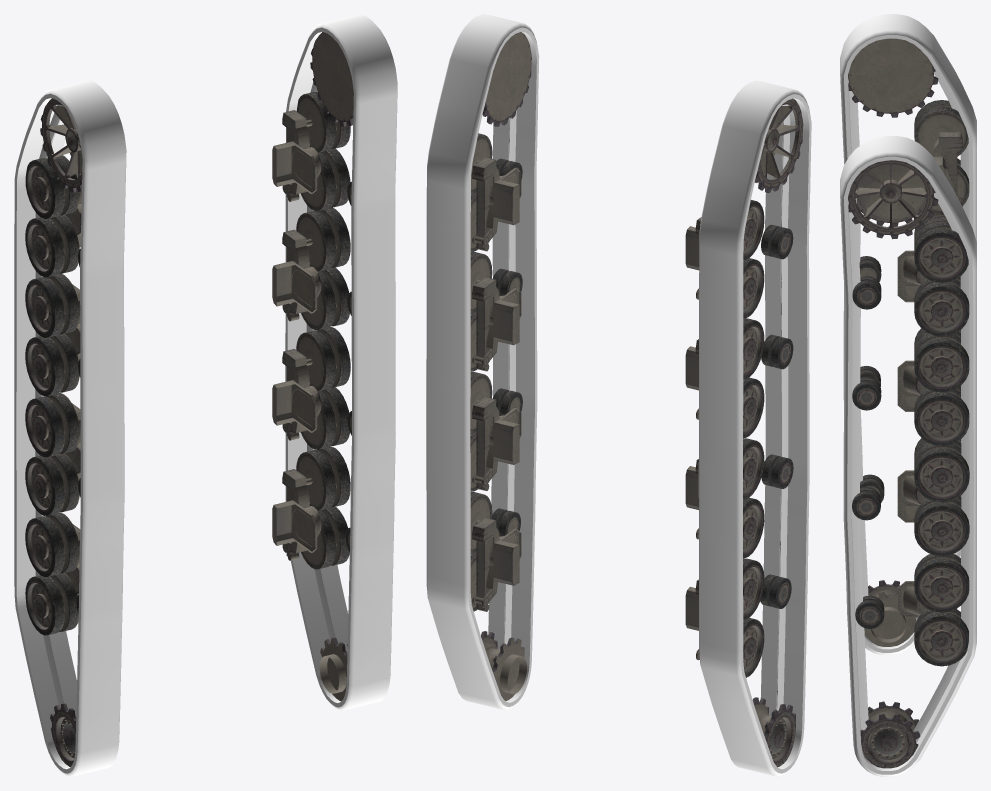
The model's file is Chassis.glb.
3 views of the same model, side by side, from view 1: azimuth 30°, elevation 25°; view 2: azimuth 150°, elevation 25°; view 3: azimuth 270°, elevation 25° (orthographic). The views are drawn at different scales.
Parts seen in each view (by area): view 1: set_1_group_0, set_0_group_0, set_3_group_0, set_2_group_0; view 2: set_1_group_0, set_0_group_0, set_3_group_0, set_2_group_0; view 3: set_3_group_0, set_0_group_0, set_2_group_0, set_1_group_0.
Boxes of the visible parts, <box> form: set_1_group_0: <box>14,80,126,776</box>; set_0_group_0: <box>285,14,397,710</box>; set_3_group_0: <box>272,32,353,701</box>; set_2_group_0: <box>25,98,82,766</box>; set_1_group_0: <box>698,80,811,776</box>; set_0_group_0: <box>426,14,539,710</box>; set_3_group_0: <box>470,32,531,700</box>; set_2_group_0: <box>685,98,803,767</box>; set_3_group_0: <box>848,160,969,768</box>; set_0_group_0: <box>840,136,976,776</box>; set_2_group_0: <box>848,38,969,646</box>; set_1_group_0: <box>840,14,976,654</box>.
Bounding box in the file's own units: 2.84 × 5.88 × 1.17.
Materials: 4 (2 with a texture image).
